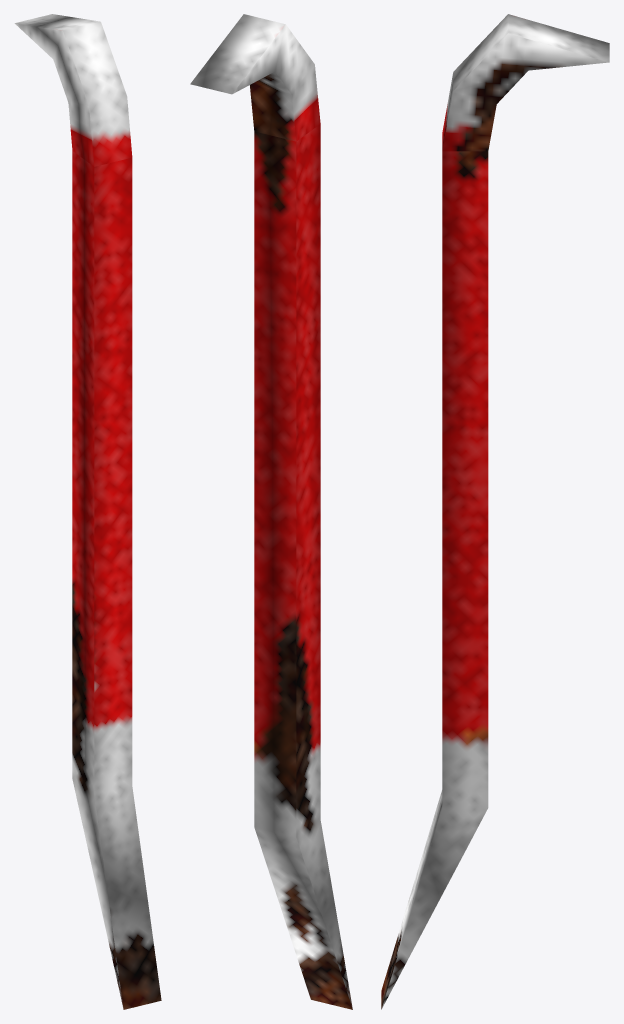
File: crowbar.fbx
3 renders of one model, left to right at view 1: azimuth 30°, elevation 25°; view 2: azimuth 150°, elevation 25°; view 3: azimuth 270°, elevation 25°, orthographic. The views are drawn at different scales.
Visible parts, largest first — view 1: Cube; view 2: Cube; view 3: Cube.
Boxes of the visible parts, x1,y1,x2,y2 form: Cube: (14, 14, 161, 1009); Cube: (190, 14, 352, 1009); Cube: (381, 14, 609, 1009).
Size of the model in its own units: 26.23 by 617 by 131.
Materials: 1 (1 with a texture image).
